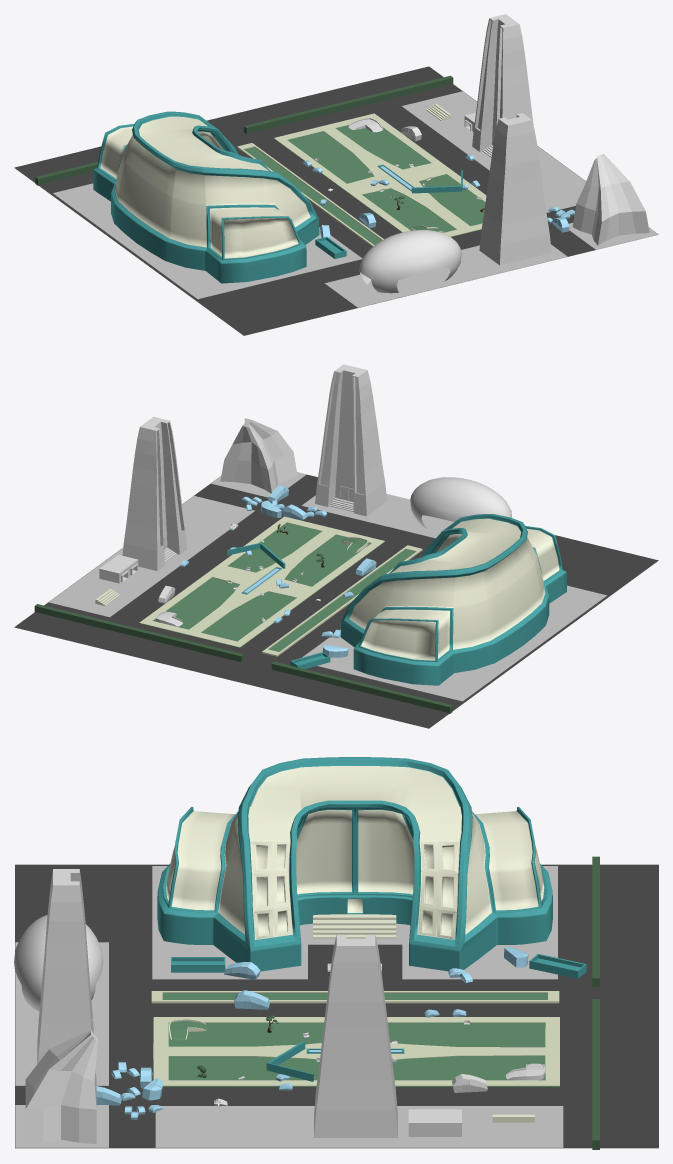
The model's file is prueba.fbx.
3 renders of one model, top to bottom at view 1: azimuth 30°, elevation 25°; view 2: azimuth 150°, elevation 25°; view 3: azimuth 270°, elevation 25°, orthographic. The views are drawn at different scales.
Visible parts, largest first — view 1: Laboratorio, Plano general, edificio kayla.003, plano parque, caminos del parque, edificio kayla.001, plano lab, Cube, restaurante, plano edificio 1y2, plano restaurante, separacion via (+4 smaller); view 2: Plano general, Laboratorio, edificio kayla.003, plano parque, edificio kayla.001, caminos del parque, plano edificio 1y2, plano lab, Cube, restaurante, separacion via, arbustos 1 (+5 smaller); view 3: Laboratorio, Plano general, plano parque, edificio kayla.001, plano edificio 1y2, caminos del parque, edificio kayla.003, plano lab, Cube, separacion via, restaurante, escaleras (+11 smaller).
Part boxes in pixels (box(x1,y1,x2,y2)): Laboratorio: box(93, 111, 319, 283); Plano general: box(14, 66, 658, 335); edificio kayla.003: box(479, 113, 551, 265); plano parque: box(274, 125, 485, 236); caminos del parque: box(274, 113, 486, 236); edificio kayla.001: box(472, 14, 533, 151); plano lab: box(53, 183, 362, 299); Cube: box(572, 154, 649, 245); restaurante: box(359, 230, 461, 293); plano edificio 1y2: box(401, 91, 585, 212); plano restaurante: box(325, 263, 480, 307); separacion via: box(237, 143, 383, 246); Plano general: box(14, 474, 658, 728); Laboratorio: box(340, 514, 566, 685); edificio kayla.003: box(315, 364, 387, 516); plano parque: box(139, 522, 384, 647); edificio kayla.001: box(122, 417, 187, 570); caminos del parque: box(139, 516, 384, 647); plano edificio 1y2: box(49, 496, 254, 617); plano lab: box(302, 585, 606, 701); Cube: box(220, 418, 297, 493); restaurante: box(410, 477, 512, 528); separacion via: box(262, 545, 422, 656); arbustos 1: box(34, 604, 243, 662); Laboratorio: box(157, 757, 552, 971); Plano general: box(15, 864, 658, 1148); plano parque: box(153, 1018, 559, 1086); edificio kayla.001: box(314, 935, 397, 1137); plano edificio 1y2: box(155, 1106, 563, 1147); caminos del parque: box(153, 1017, 559, 1085); edificio kayla.003: box(37, 869, 93, 1063); plano lab: box(152, 866, 557, 979); Cube: box(25, 1030, 97, 1144); separacion via: box(151, 991, 559, 1003); restaurante: box(14, 915, 103, 1011); escaleras: box(313, 914, 396, 938).
Size of the model in its own units: 8703 by 2682 by 8356.
